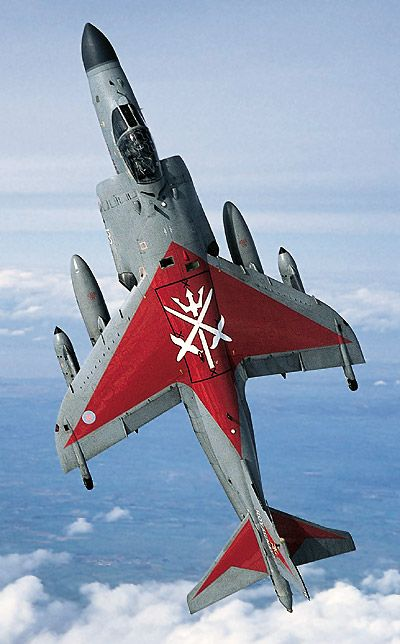aeroplane: (55, 25, 364, 604)
